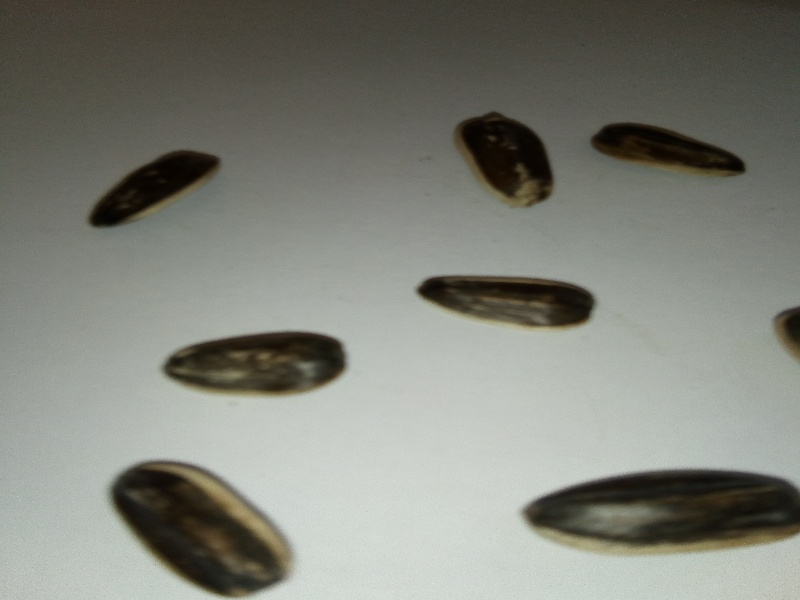girasol: (91, 453, 311, 597), (517, 460, 800, 563), (154, 328, 352, 403), (401, 266, 604, 333), (445, 108, 565, 212)
